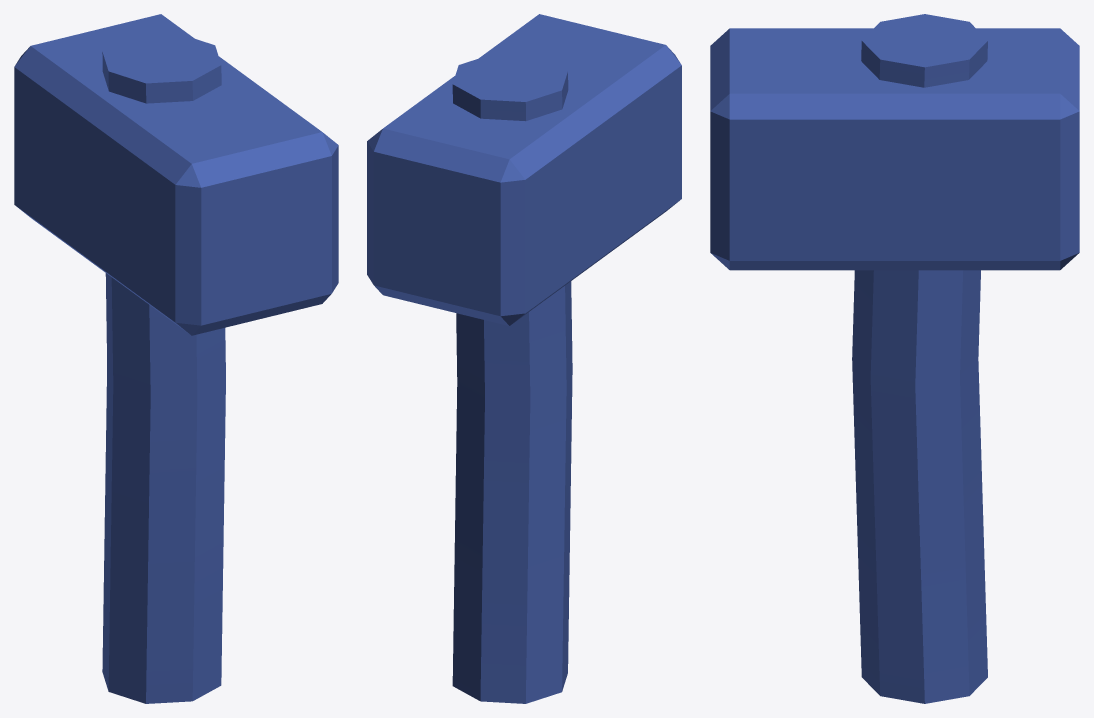
File: hammer.fbx
The picture shows the model from 3 angles, left to right: view 1: azimuth 30°, elevation 25°; view 2: azimuth 150°, elevation 25°; view 3: azimuth 270°, elevation 25°; orthographic projection. The views are drawn at different scales.
Parts seen in each view (by area): view 1: pCube151; view 2: pCube151; view 3: pCube151.
Boxes of the visible parts, x1,y1,x2,y2 form: pCube151: (14, 14, 338, 703); pCube151: (367, 14, 681, 703); pCube151: (710, 14, 1079, 703).
Size of the model in its own units: 0.0726 by 0.2638 by 0.1387.
